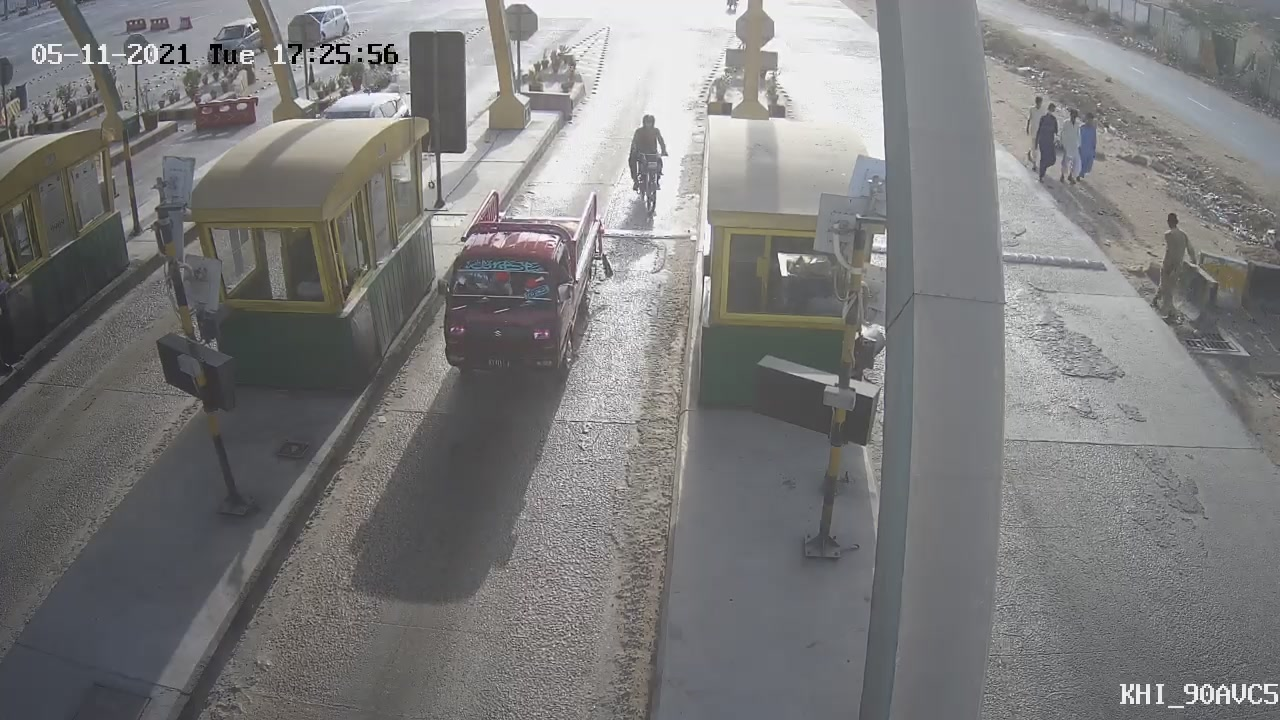F1: (413, 170, 624, 398)
